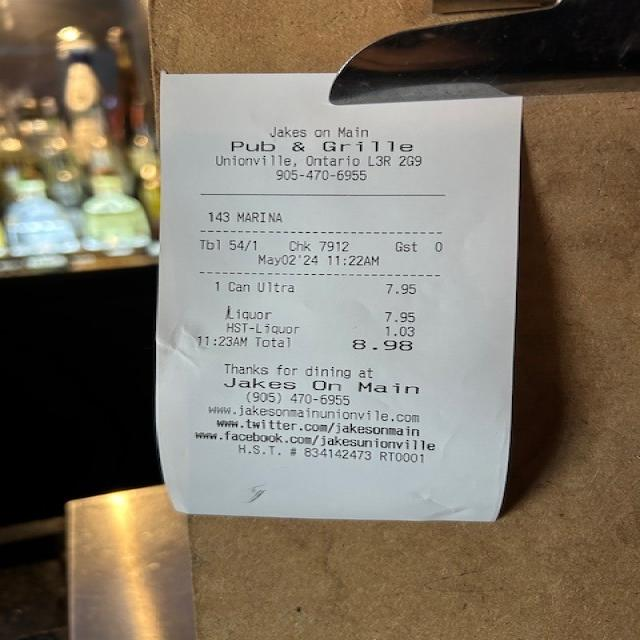item: (222, 274, 428, 299)
store_name: (220, 134, 426, 158)
total_amount: (251, 333, 430, 355)
transaction_date: (252, 250, 324, 272)
